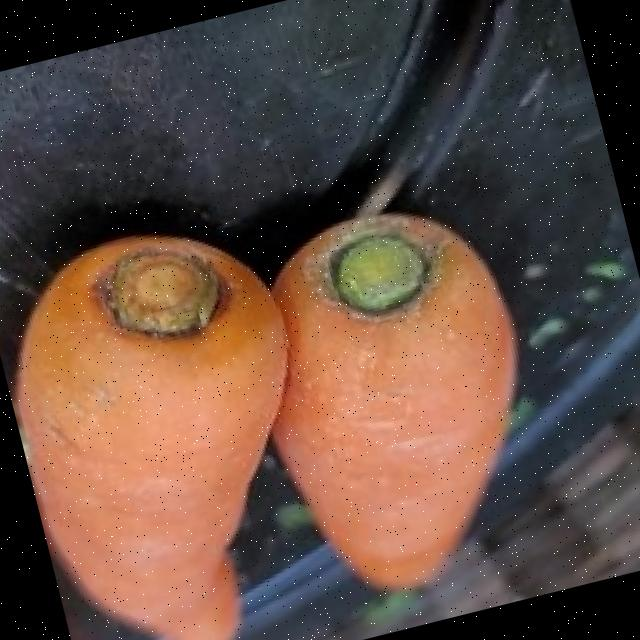carrot: (21, 239, 289, 640), (278, 216, 520, 590)
